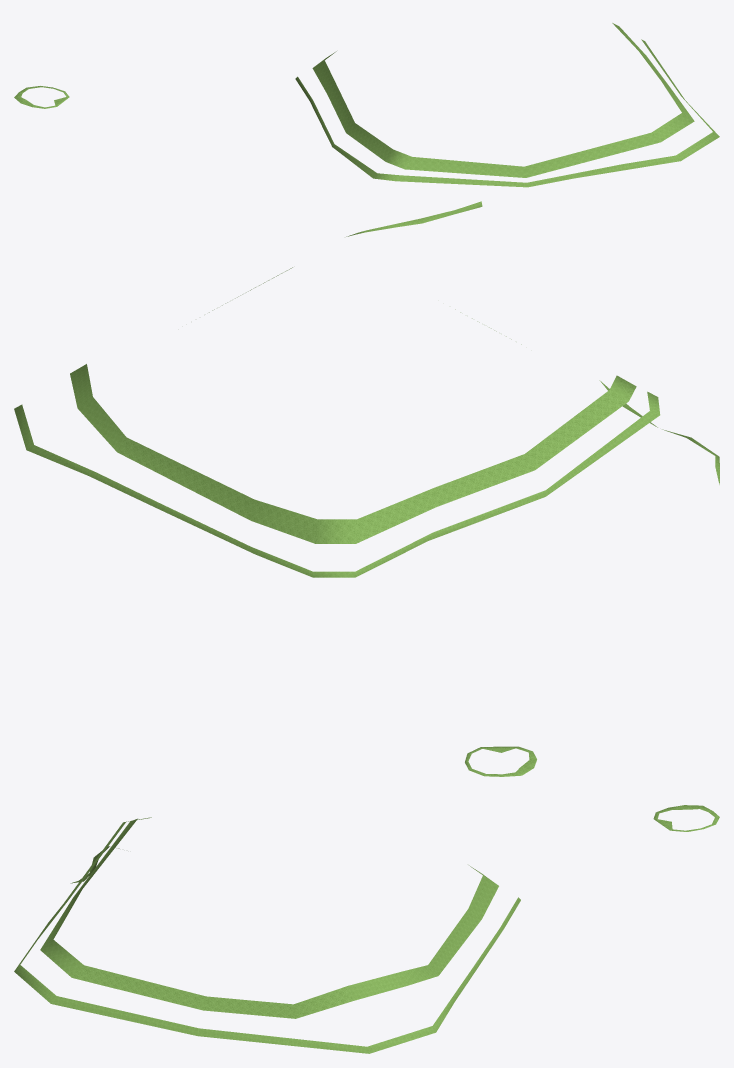
Rendered from kd_stage_1366d7_21_8_bounded.glb.
The picture shows the model from 3 angles, top to bottom: view 1: azimuth 30°, elevation 25°; view 2: azimuth 150°, elevation 25°; view 3: azimuth 270°, elevation 25°; orthographic projection. The views are drawn at different scales.
Parts seen in each view (by area): view 1: kd_stage_1366d7_21_8_bounded; view 2: kd_stage_1366d7_21_8_bounded; view 3: kd_stage_1366d7_21_8_bounded.
Boxes of the visible parts, x1,y1,x2,y2 form: kd_stage_1366d7_21_8_bounded: (14,23,719,236); kd_stage_1366d7_21_8_bounded: (14,267,719,776); kd_stage_1366d7_21_8_bounded: (14,805,719,1053).
Bounding box in the file's own units: 435 × 60.36 × 442.
1 material, 1 textured.
